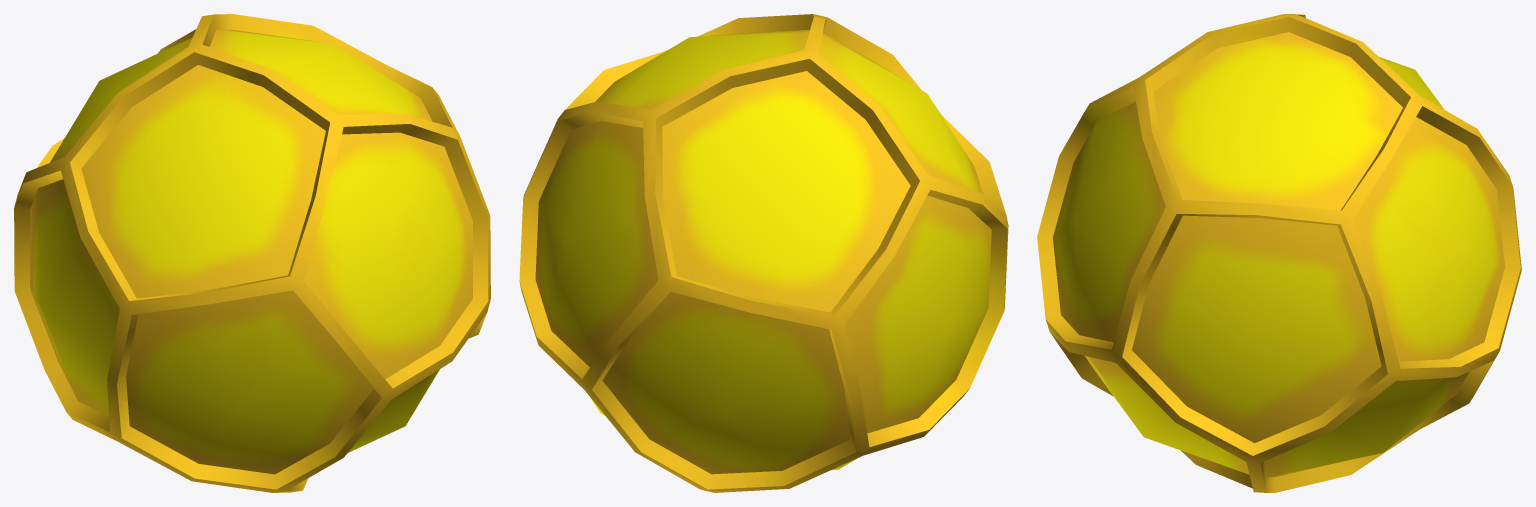
Rendered from pollen.fbx.
The picture shows the model from 3 angles, left to right: view 1: azimuth 30°, elevation 25°; view 2: azimuth 150°, elevation 25°; view 3: azimuth 270°, elevation 25°; orthographic projection.
Parts seen in each view (by area): view 1: polen; view 2: polen; view 3: polen.
Part boxes in pixels (bbox=[...]): polen: bbox=[14, 14, 490, 492]; polen: bbox=[519, 14, 1008, 492]; polen: bbox=[1037, 14, 1521, 492].
Size of the model in its own units: 0.478 by 0.4985 by 0.5094.
Materials: 1 (1 with a texture image).
